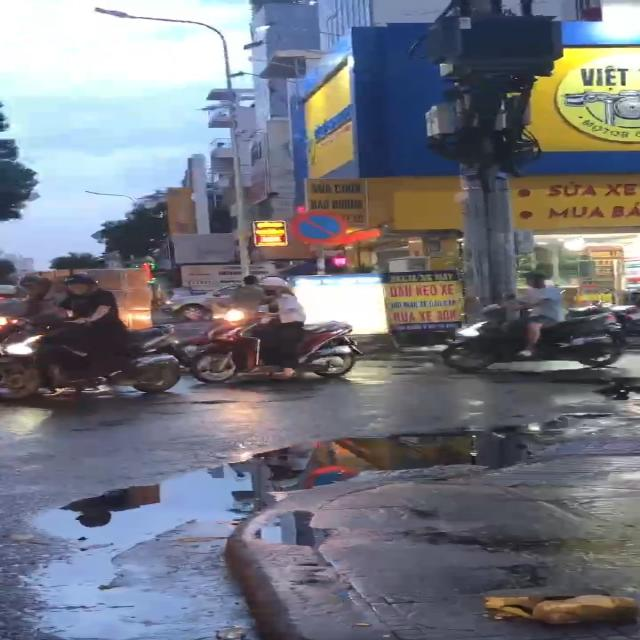Bien bao cam do xe: (287, 210, 352, 245)
